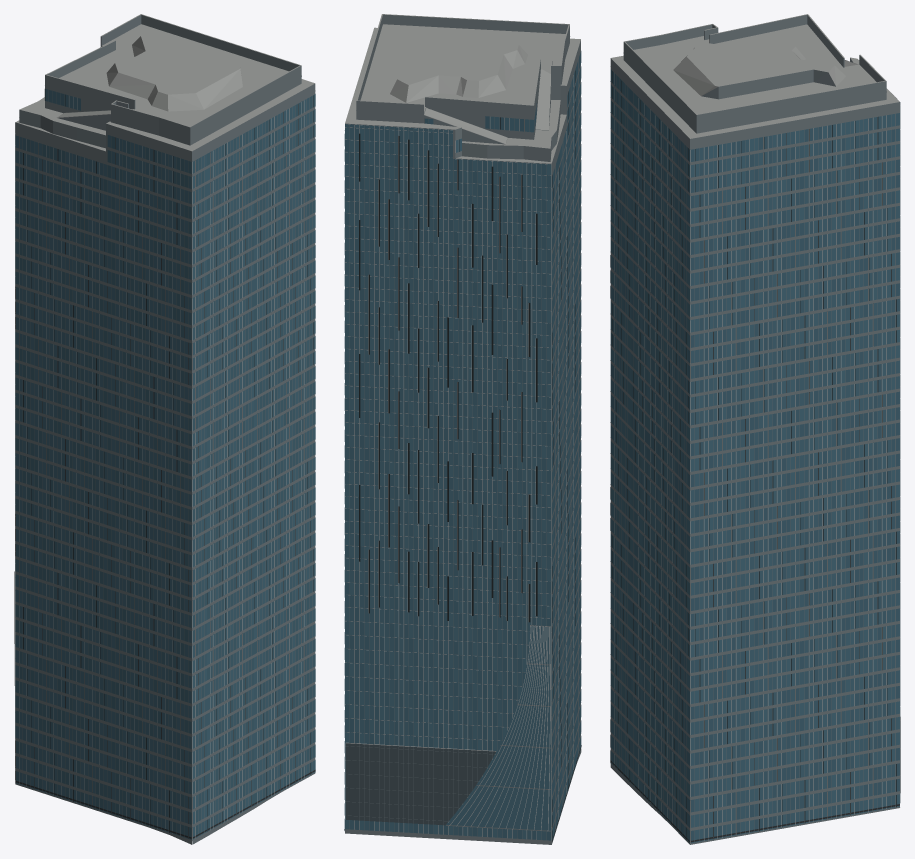
File: prior.glb
3 views of the same model, side by side, from view 1: azimuth 30°, elevation 25°; view 2: azimuth 150°, elevation 25°; view 3: azimuth 270°, elevation 25° (orthographic). The views are drawn at different scales.
Visible parts, largest first — view 1: scramble-square_wall, scramble-square_glass1, scramble-square_glass2, scramble-square_glass0, scramble-square_frame, scramble-square_spandrel, scramble-square_roof, scramble-square_dark, scramble-square_sign_housing; view 2: scramble-square_glass1, scramble-square_glass2, scramble-square_glass0, scramble-square_wall, scramble-square_frame, scramble-square_roof, scramble-square_dark, scramble-square_screen_backing, scramble-square_spandrel; view 3: scramble-square_wall, scramble-square_glass1, scramble-square_glass0, scramble-square_glass2, scramble-square_frame, scramble-square_spandrel, scramble-square_roof, scramble-square_dark, scramble-square_sign_housing.
Part boxes in pixels (x1=…): scramble-square_wall: x1=15, y1=14, x2=315, y2=844; scramble-square_glass1: x1=15, y1=90, x2=315, y2=836; scramble-square_glass2: x1=15, y1=89, x2=315, y2=839; scramble-square_glass0: x1=15, y1=93, x2=315, y2=839; scramble-square_frame: x1=14, y1=47, x2=315, y2=839; scramble-square_spandrel: x1=15, y1=76, x2=315, y2=840; scramble-square_roof: x1=16, y1=14, x2=314, y2=151; scramble-square_dark: x1=15, y1=89, x2=313, y2=839; scramble-square_sign_housing: x1=15, y1=769, x2=315, y2=838; scramble-square_glass1: x1=344, y1=53, x2=581, y2=840; scramble-square_glass2: x1=344, y1=59, x2=581, y2=839; scramble-square_glass0: x1=344, y1=51, x2=581, y2=840; scramble-square_wall: x1=345, y1=14, x2=581, y2=844; scramble-square_frame: x1=345, y1=75, x2=573, y2=840; scramble-square_roof: x1=345, y1=14, x2=580, y2=163; scramble-square_dark: x1=359, y1=71, x2=575, y2=842; scramble-square_screen_backing: x1=346, y1=743, x2=495, y2=825; scramble-square_spandrel: x1=344, y1=36, x2=581, y2=840; scramble-square_wall: x1=610, y1=15, x2=899, y2=844; scramble-square_glass1: x1=610, y1=75, x2=900, y2=840; scramble-square_glass0: x1=610, y1=69, x2=900, y2=843; scramble-square_glass2: x1=610, y1=82, x2=900, y2=842; scramble-square_frame: x1=614, y1=60, x2=900, y2=843; scramble-square_spandrel: x1=610, y1=53, x2=899, y2=843; scramble-square_roof: x1=611, y1=14, x2=899, y2=138; scramble-square_dark: x1=610, y1=71, x2=896, y2=842; scramble-square_sign_housing: x1=610, y1=760, x2=899, y2=842.
Size of the model in its own units: 79.81 by 230 by 82.81.
